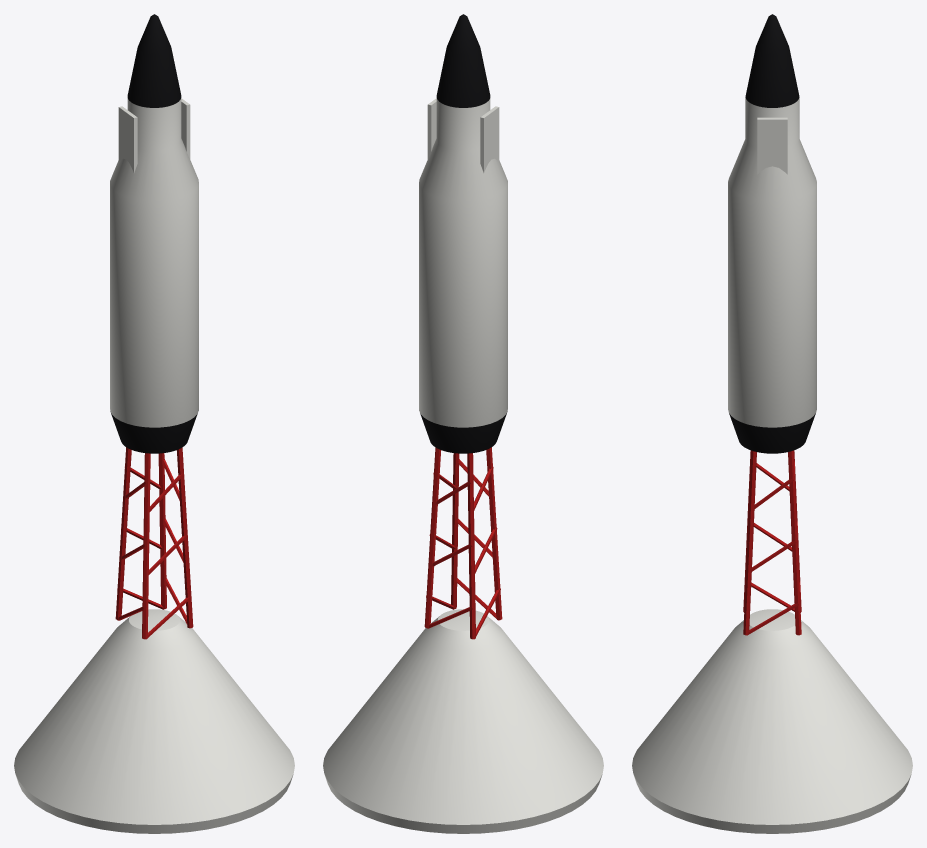
The model's file is apollo_les.glb.
The picture shows the model from 3 angles, left to right: view 1: azimuth 30°, elevation 25°; view 2: azimuth 150°, elevation 25°; view 3: azimuth 270°, elevation 25°; orthographic projection.
Parts seen in each view (by area): view 1: model; view 2: model; view 3: model.
Part boxes in pixels (<box>): model: <box>14,14,294,833</box>; model: <box>323,14,603,833</box>; model: <box>632,14,912,833</box>.
Bounding box in the file's own units: 4.16 × 12.45 × 4.16.
1 material, 1 textured.
